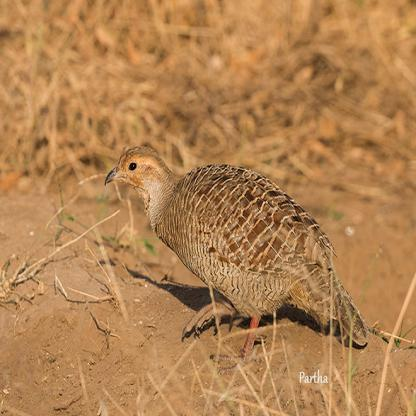Burung: (105, 147, 368, 360)
